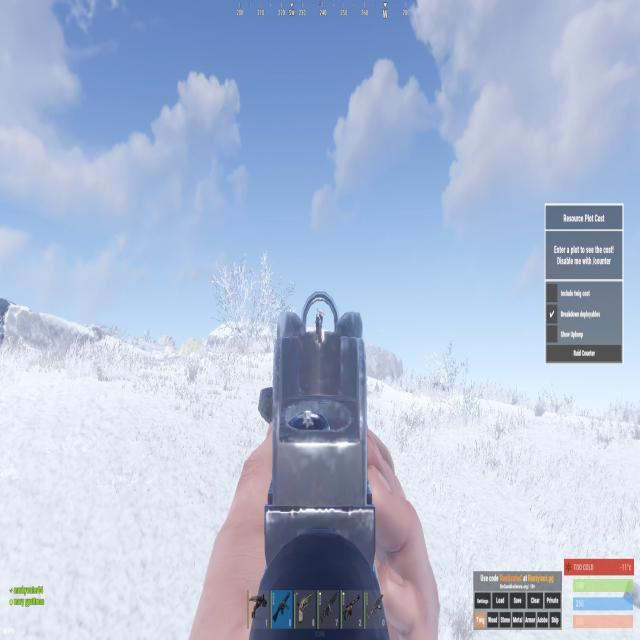Player: (313, 307, 325, 345)
